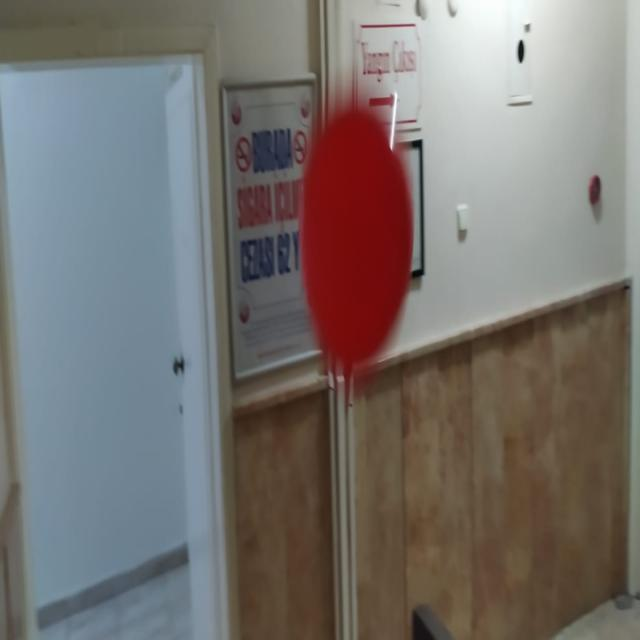balloon: (297, 100, 418, 392)
